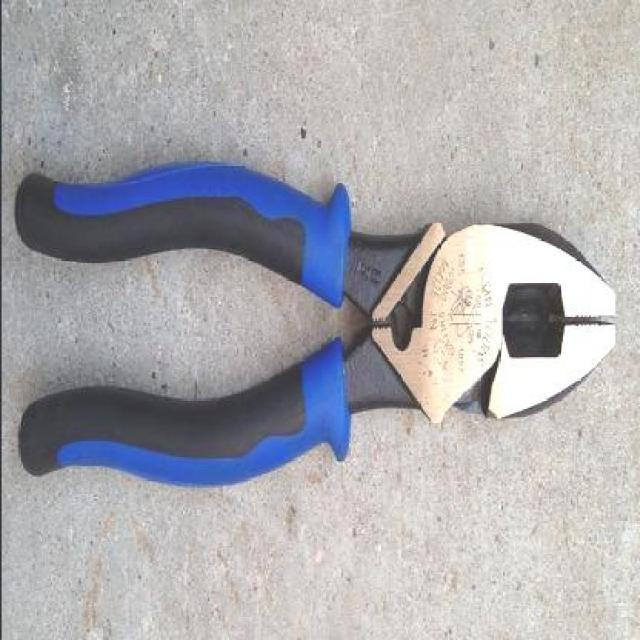pliers: (20, 158, 625, 478)
